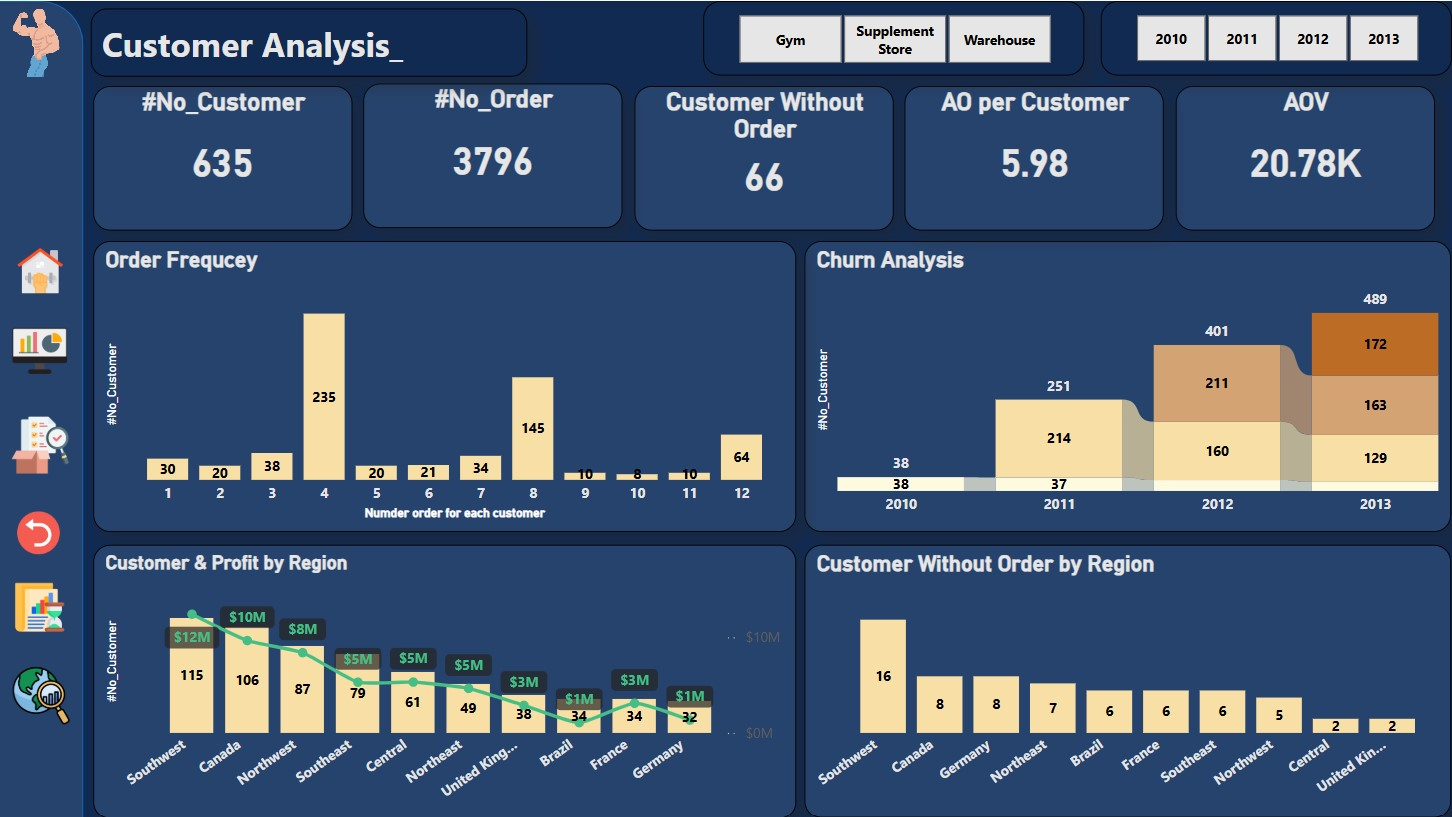

What the dashboard file says about the page in this screenshot:
{"tool":"powerbi","page":{"name":"Customer Analysis","canvas":[1280,720],"ordinal":2},"visuals":[{"type":"shape","box":[0,0,76,720],"z":0,"group":"g2"},{"type":"card","title":"AOV","fields":{"Values":["Customer Analysis.AOV"]},"box":[1036.6,74.5,228.1,127.6],"z":0},{"type":"card","title":"#No_Customer","fields":{"Values":["Customer Analysis.#No_Customer"]},"box":[84.7,74.5,228.1,127.6],"z":1000,"group":"g1"},{"type":"card","title":"Customer Without Order","fields":{"Values":["Customer Analysis.#No_customer Without Order"]},"box":[560.6,74.5,228.1,127.6],"z":1000},{"type":"card","title":"#No_Order","fields":{"Values":["Customer Analysis.#No_Order"]},"box":[322.7,72.3,228.1,127.6],"z":2000},{"type":"columnChart","title":"Churn Analysis","fields":{"Y":["Customer Analysis.#No_Customer"],"Category":["dtbl_Calender.Year"],"Series":["dtbl_Customers.Column Fist Order date"]},"box":[710.2,211.2,569.1,256.3],"z":3000},{"type":"clusteredColumnChart","title":"Order Frequcey","fields":{"Y":["Customer Analysis.#No_Customer"],"Category":["dtbl_Customers.Numder order for each customer"]},"box":[84.7,211.2,618.8,256.3],"z":4000},{"type":"lineClusteredColumnComboChart","title":"Customer & Profit by Region","fields":{"Y":["Customer Analysis.#No_Customer"],"Y2":["Calculation.Gross Margen"],"Category":["dtbl_Customers.Region"]},"box":[84.7,478.8,618.8,241.6],"z":5000},{"type":"clusteredColumnChart","title":"Customer Without Order by  Region","fields":{"Y":["Customer Analysis.#No_customer Without Order"],"Category":["dtbl_Customers.Region"]},"box":[710.2,478.8,569.1,240.5],"z":6000},{"type":"slicer","fields":{"Values":["dtbl_Calender.Year"]},"box":[970.9,0,309,66],"z":7000},{"type":"card","fields":{"Values":["Customer Analysis.New Order%"]},"box":[323.8,120.2,85.7,71.4],"z":8000},{"type":"card","fields":{"Values":["Customer Analysis.Old_Order%"]},"box":[466.7,120.2,91.7,71.4],"z":9000},{"type":"card","title":"AO per Customer","fields":{"Values":["Customer Analysis.AO per Customer"]},"box":[798.6,74.5,228.1,127.6],"z":10000},{"type":"card","fields":{"Values":["Customer Analysis.New Customer%"]},"box":[84.5,120.2,84.5,71.4],"z":10000,"group":"g1"},{"type":"actionButton","box":[82.4,6.8,383.9,59.8],"z":11000},{"type":"card","fields":{"Values":["Customer Analysis.Old_Customer%"]},"box":[226.2,120.2,85.7,71.4],"z":11000,"group":"g1"},{"type":"slicer","fields":{"Values":["dtbl_Customers.BusinessType"]},"box":[621,0,335.4,65.5],"z":12000},{"type":"group","id":"g1","title":"Group 1","box":[84.5,74.5,228.3,127.6],"z":13000},{"type":"group","id":"g2","title":"Group 2","box":[0,0,77.9,720],"z":14000},{"type":"image","title":"dddd","box":[4.5,211.2,67.7,53.1],"z":15000,"group":"g2"},{"type":"image","box":[0,0,69,73.8],"z":16000,"group":"g2"},{"type":"image","box":[0,360.2,75.7,59.8],"z":17000,"group":"g2"},{"type":"image","box":[3.4,443.8,66.6,47.4],"z":18000,"group":"g2"},{"type":"image","box":[0,579.3,77.9,63.2],"z":19000,"group":"g2"},{"type":"image","box":[0,507,74.5,53.1],"z":20000,"group":"g2"},{"type":"image","box":[9,274.4,57.6,65.5],"z":21000,"group":"g2"}]}

Visuals, with their boxes in screenshot pixels (x1, y1, x2, y2), scaled from the page's 1280x720 canvas onto the 1452x817 screenshot:
shape: box=[0, 0, 86, 816]
"AOV" card: box=[1176, 85, 1435, 229]
"#No_Customer" card: box=[96, 85, 355, 229]
"Customer Without Order" card: box=[636, 85, 895, 229]
"#No_Order" card: box=[366, 82, 625, 227]
"Churn Analysis" columnChart: box=[806, 240, 1451, 530]
"Order Frequcey" clusteredColumnChart: box=[96, 240, 798, 530]
"Customer & Profit by Region" lineClusteredColumnComboChart: box=[96, 543, 798, 816]
"Customer Without Order by  Region" clusteredColumnChart: box=[806, 543, 1451, 816]
slicer - dtbl_Calender.Year: box=[1101, 0, 1451, 75]
card - Customer Analysis.New Order%: box=[367, 136, 465, 217]
card - Customer Analysis.Old_Order%: box=[529, 136, 633, 217]
"AO per Customer" card: box=[906, 85, 1165, 229]
card - Customer Analysis.New Customer%: box=[96, 136, 192, 217]
actionButton: box=[93, 8, 529, 76]
card - Customer Analysis.Old_Customer%: box=[257, 136, 354, 217]
slicer - dtbl_Customers.BusinessType: box=[704, 0, 1085, 74]
"Group 1" group: box=[96, 85, 355, 229]
"Group 2" group: box=[0, 0, 88, 816]
"dddd" image: box=[5, 240, 82, 300]
image: box=[0, 0, 78, 84]
image: box=[0, 409, 86, 477]
image: box=[4, 504, 79, 557]
image: box=[0, 657, 88, 729]
image: box=[0, 575, 85, 636]
image: box=[10, 311, 76, 386]
